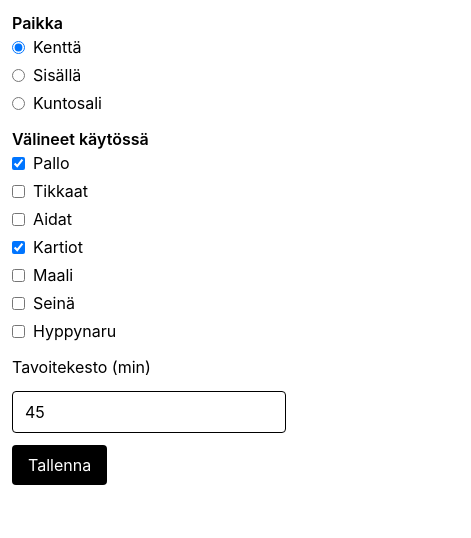
Test: SessionSettingsForm › drops a refusal and what was chosen once the page brings newer saved choices
Later steps or results of the test are not shown.
Replace the text in the field labelled "Tavoitekesto (min)" with "7": (149, 412) [12,391,286,433]
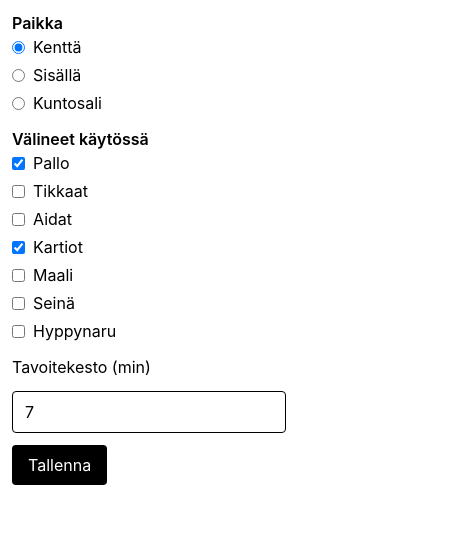
Click the button "Tallenna": (60, 465) [12,445,107,485]
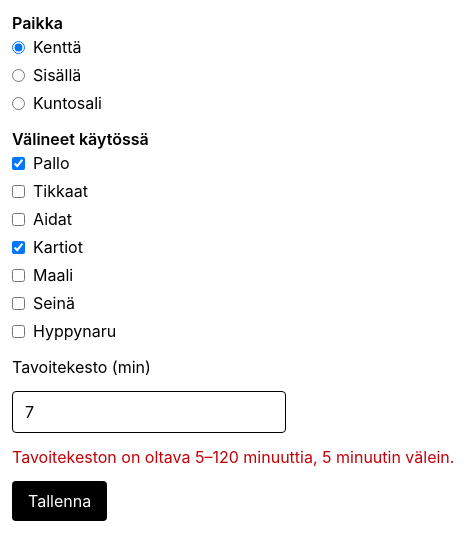
Check: the field labelled "Tavoitekesto (min)" holds "7", box [12,391,286,433]
Check: the message "Tavoitekeston on oltava 5–120 minuuttia, 5 minuutin välein." is shown, box [12,447,454,467]
